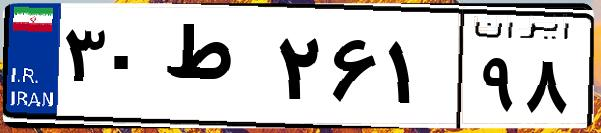0: (110, 28, 158, 98)
1: (385, 28, 445, 110)
2: (270, 28, 330, 110)
3: (57, 26, 110, 100)
6: (330, 28, 385, 110)
8: (525, 38, 570, 115)
9: (475, 38, 525, 113)
ط: (158, 20, 270, 120)
